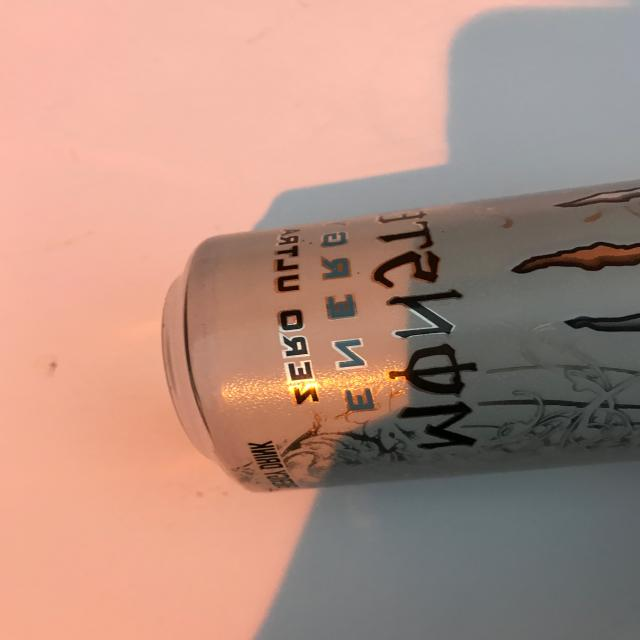metal: (161, 178, 640, 493)
